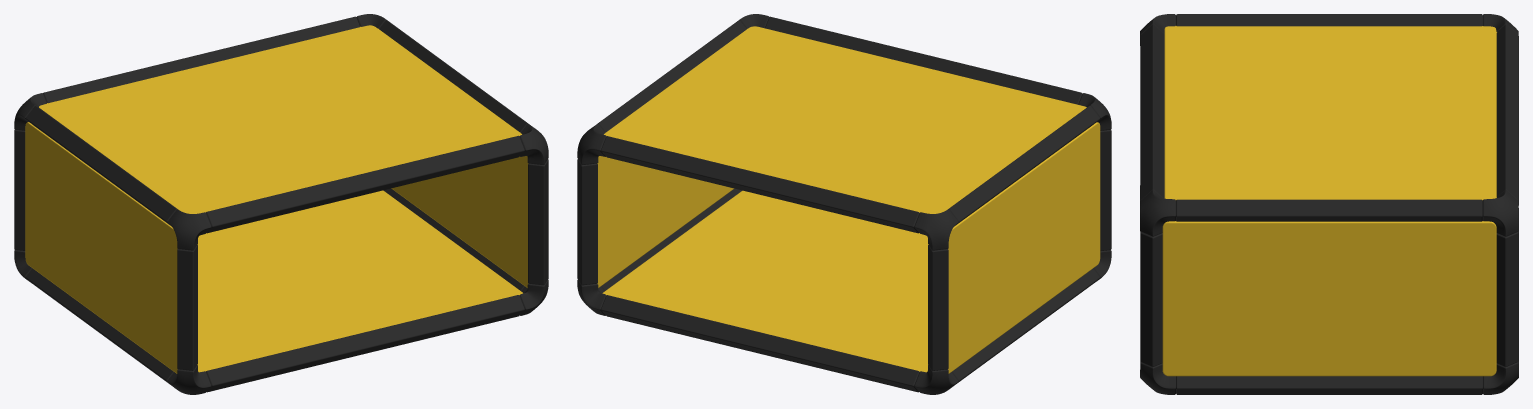
3 views of the same model, side by side, from view 1: azimuth 30°, elevation 25°; view 2: azimuth 150°, elevation 25°; view 3: azimuth 270°, elevation 25° (orthographic). The views are drawn at different scales.
Parts seen in each view (by area): view 1: 420x329x154; view 2: 420x329x154; view 3: 420x329x154.
Part boxes in pixels (box(x1,y1,x2,y2)): 420x329x154: box(14, 14, 548, 394); 420x329x154: box(577, 14, 1111, 394); 420x329x154: box(1140, 14, 1518, 394).
Size of the model in its own units: 0.4977 by 0.2316 by 0.4063.
